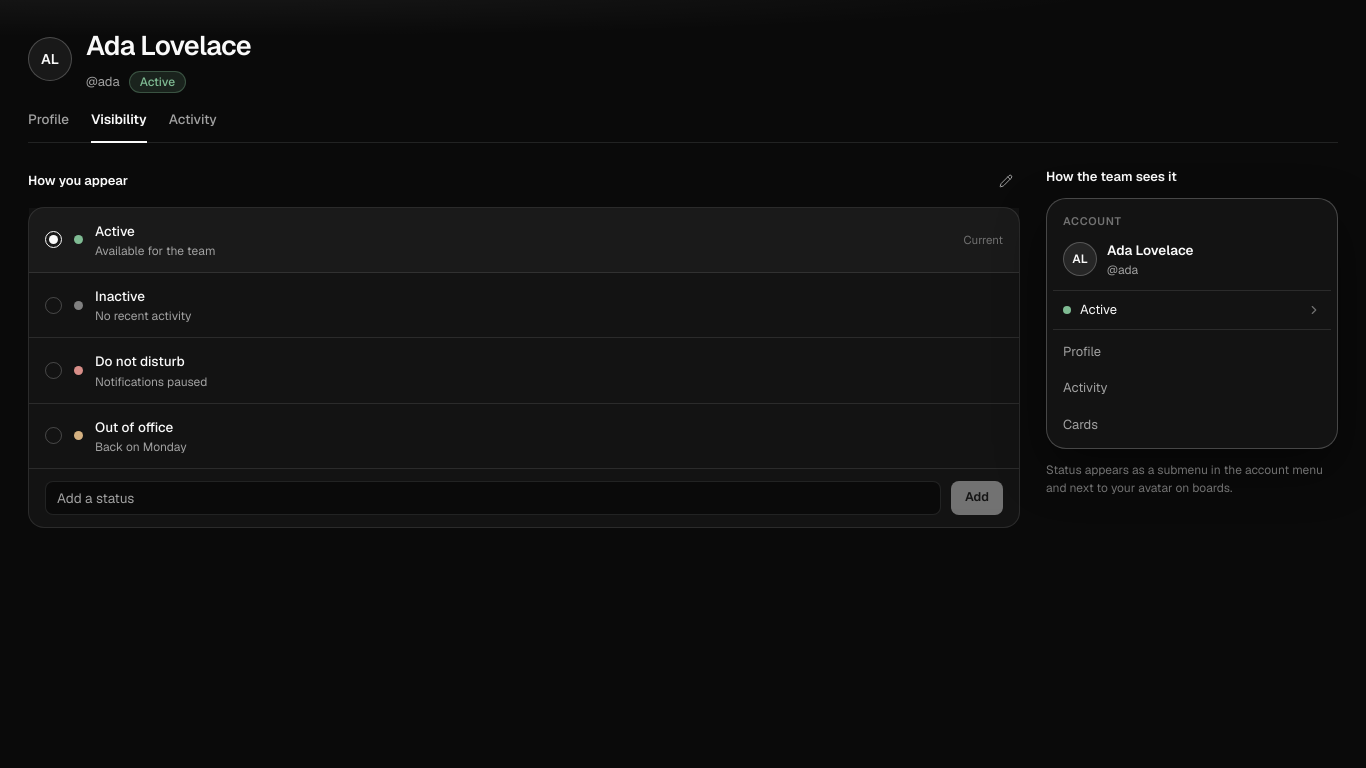
AccountVisibility › keeps Add disabled while the input is empty and appends a row when submitted
The image size is (1366, 768).
Check: the button "Add" is disabled, box [951, 481, 1003, 515]
In the field labelled "Add a status": (493, 498) [45, 481, 941, 515], type "Focus"
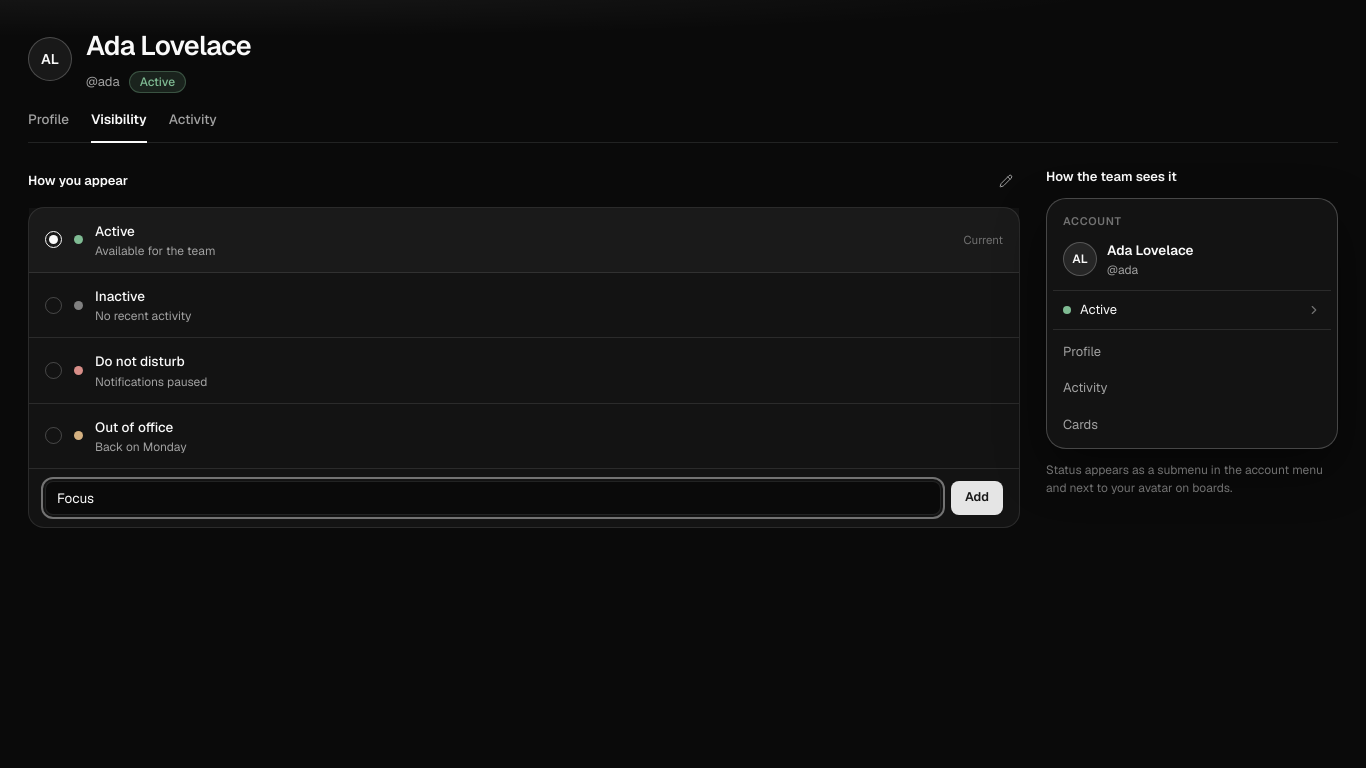
Check: the button "Add" is enabled
Click the button "Add": click(977, 498) [951, 481, 1003, 515]
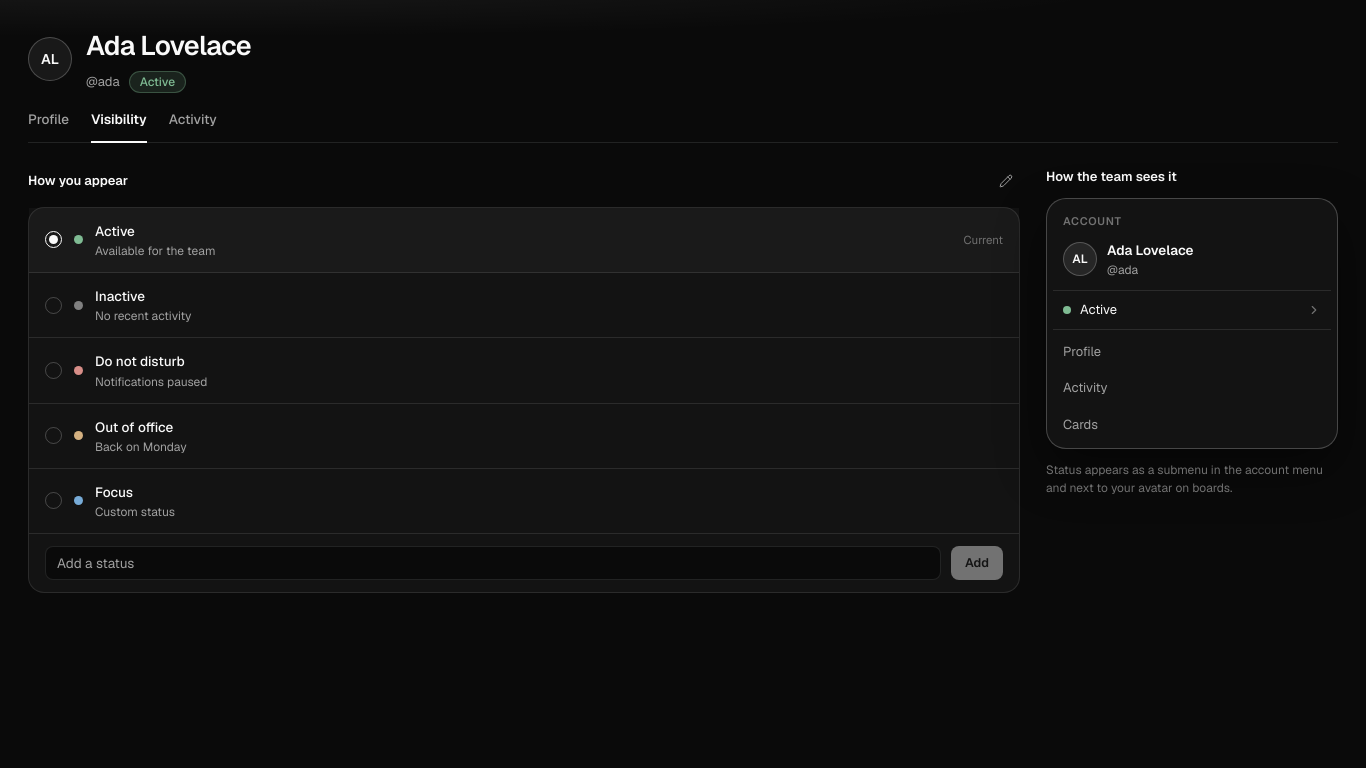
Check: the radio button named "Focus" is shown, box [45, 492, 62, 509]
Check: the field labelled "Add a status" is empty, box [45, 546, 941, 580]
